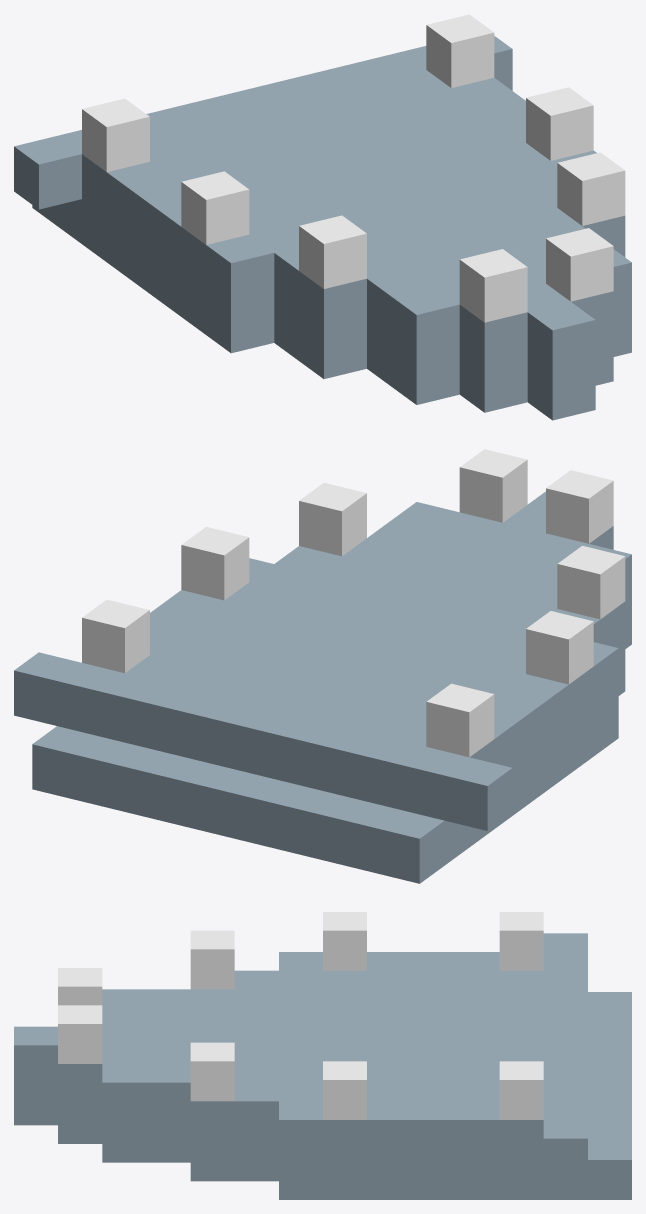
Rendered from BottomHead.obj.
3 renders of one model, top to bottom at view 1: azimuth 30°, elevation 25°; view 2: azimuth 150°, elevation 25°; view 3: azimuth 270°, elevation 25°, orthographic. The views are drawn at different scales.
Size of the model in its own units: 11 by 3 by 14.
Materials: 1 (1 with a texture image).
